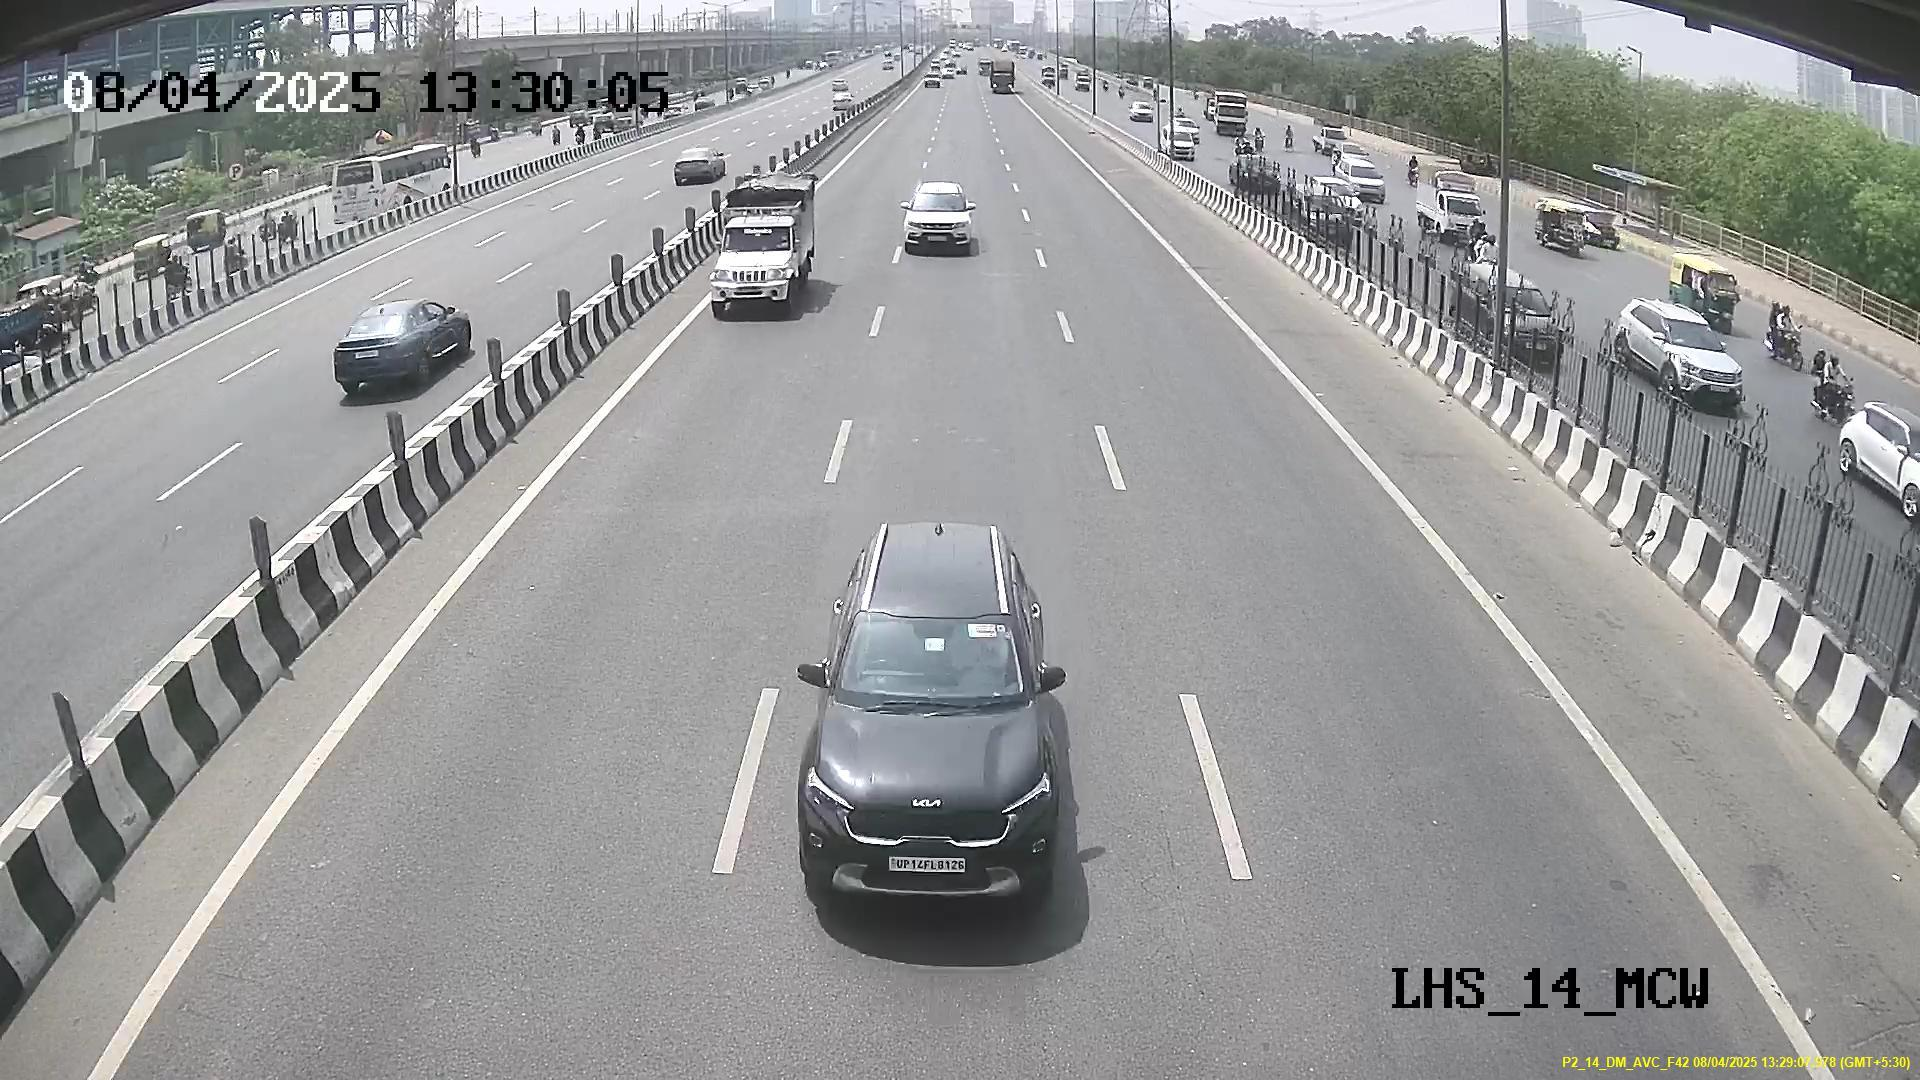car: (793, 589, 1060, 927), (705, 211, 811, 313), (899, 185, 977, 255)
